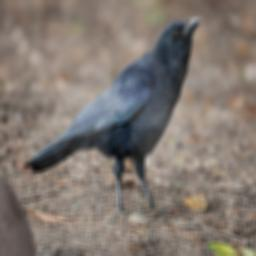Crow: (25, 17, 205, 220)
